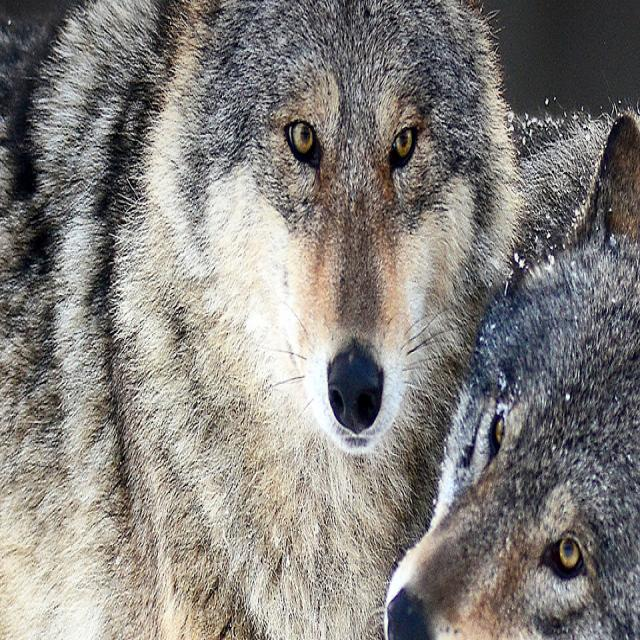wolf: (0, 0, 522, 640), (390, 96, 640, 640)
